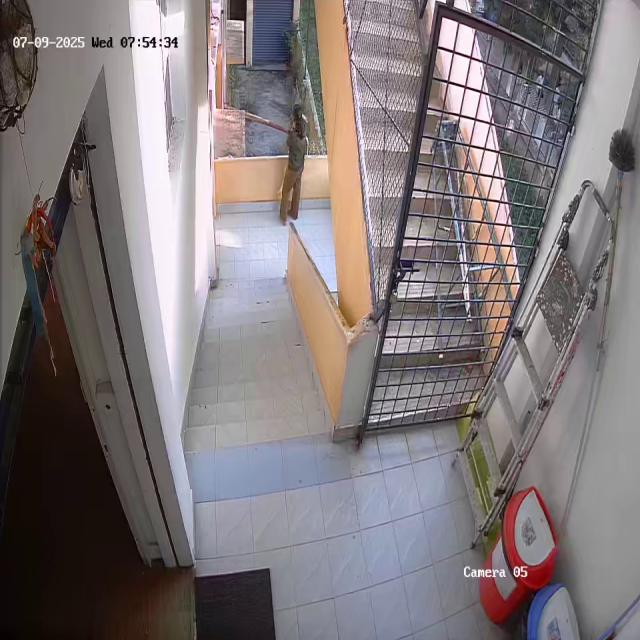person: (281, 105, 306, 222)
